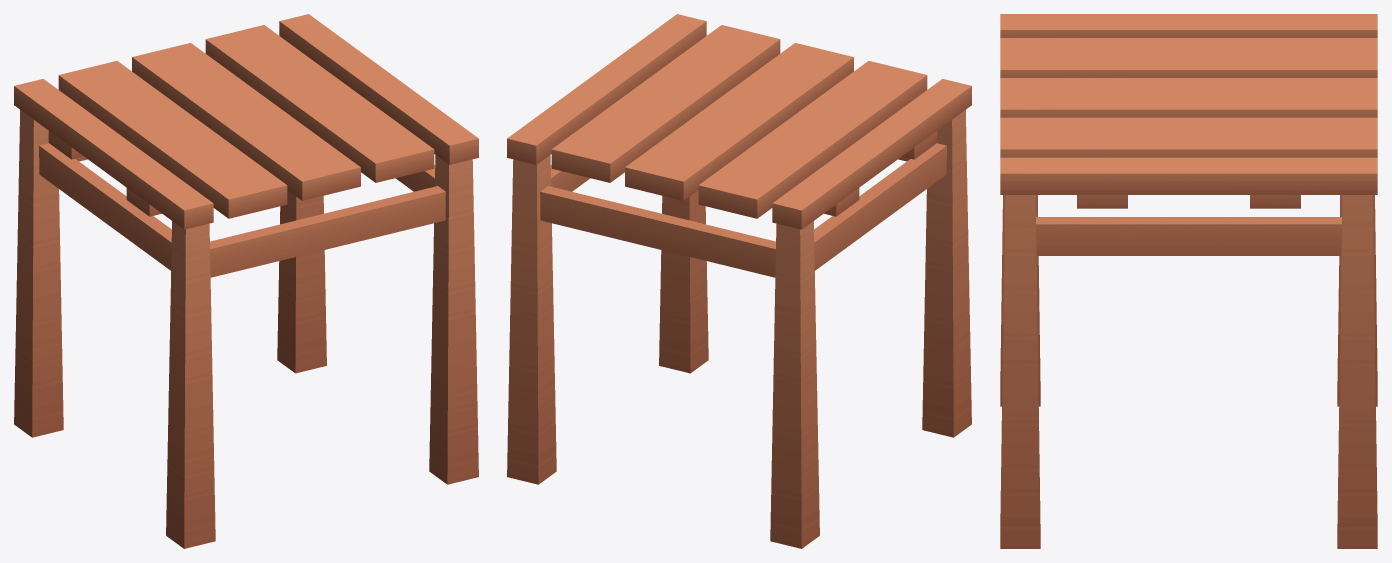
The model's file is structure-floor.glb.
The picture shows the model from 3 angles, left to right: view 1: azimuth 30°, elevation 25°; view 2: azimuth 150°, elevation 25°; view 3: azimuth 270°, elevation 25°; orthographic projection. The views are drawn at different scales.
Visible parts, largest first — view 1: structure-floor, Group; view 2: structure-floor, Group; view 3: Group, structure-floor.
Boxes of the visible parts, left/top/right/bottom form: structure-floor: left=14, top=110, right=478, bottom=548; Group: left=14, top=14, right=478, bottom=229; structure-floor: left=507, top=110, right=971, bottom=548; Group: left=507, top=14, right=971, bottom=229; Group: left=1000, top=14, right=1377, bottom=208; structure-floor: left=1000, top=195, right=1377, bottom=548.
Bounding box in the file's own units: 0.5 × 0.5487 × 0.5.
Materials: 1 (1 with a texture image).
